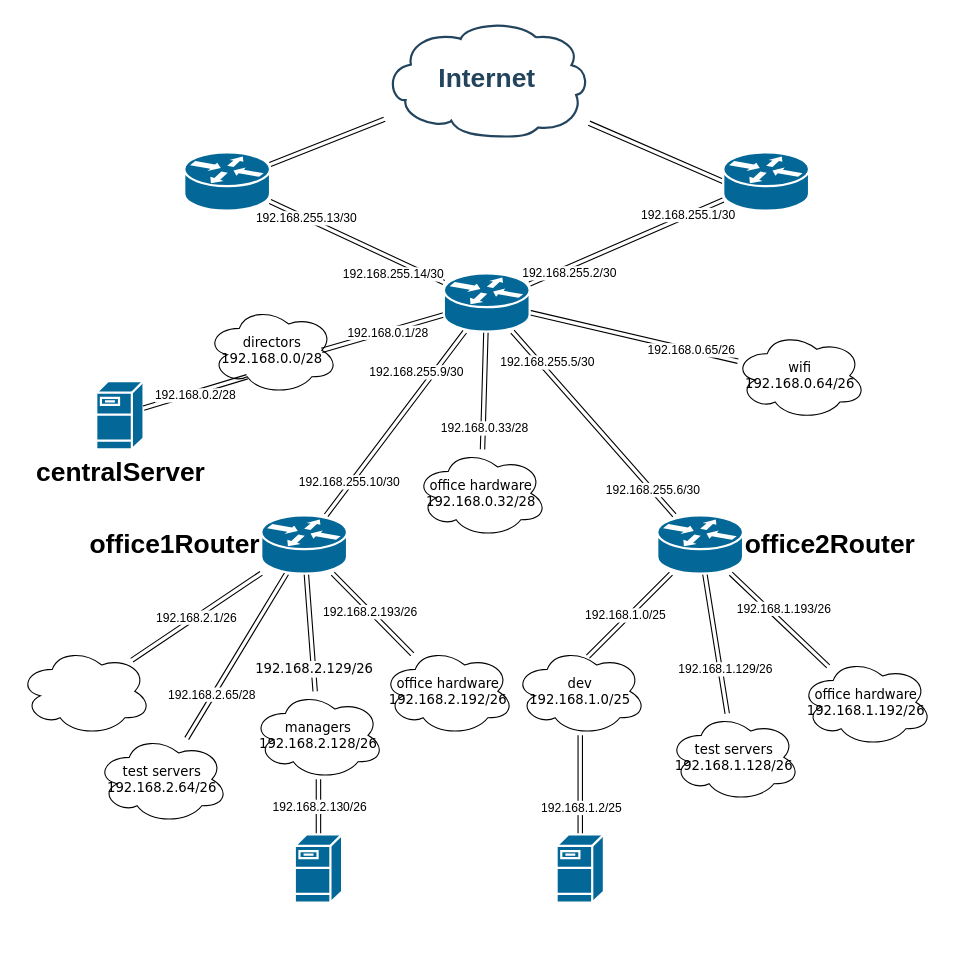
The diagram is 963 pixels wide and 960 high, and some of its shapes have lost their labels. The shapes that lost their labels are listed below. From the top down, each one's centre as x and y in pixels, then its label:
point (227, 181): inet2Router
point (766, 181): inetRouter
point (486, 302): centralRouter
point (84, 690): dev 192.168.2.0/26
point (318, 868): office1Server
point (579, 868): office2Server
